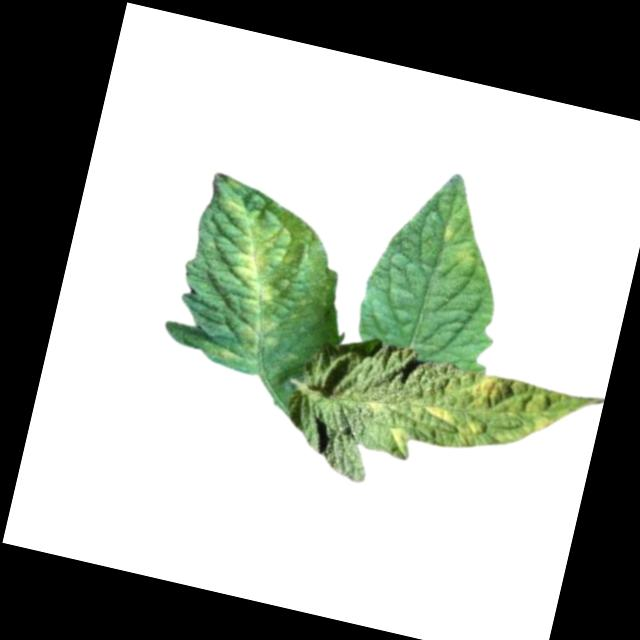Leaf_Mold: (190, 195, 315, 379), (412, 359, 586, 473), (435, 220, 488, 272)
